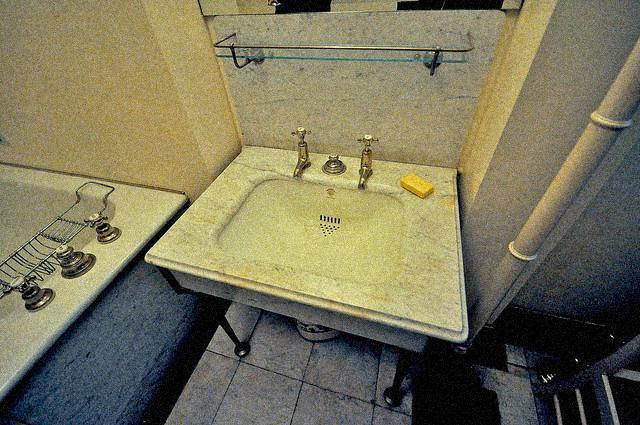Ducha: (0, 171, 187, 424)
Lavamanos: (155, 131, 473, 361)
